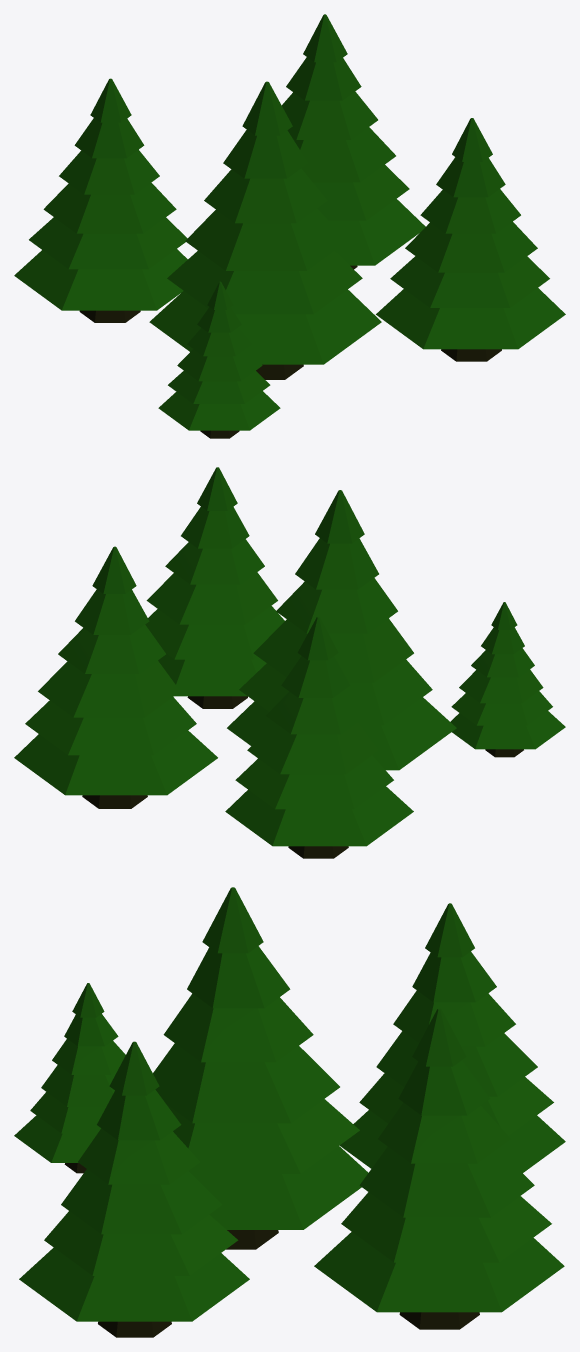
Rendered from forest.glb.
The picture shows the model from 3 angles, top to bottom: view 1: azimuth 30°, elevation 25°; view 2: azimuth 150°, elevation 25°; view 3: azimuth 270°, elevation 25°; orthographic projection. The views are drawn at different scales.
Visible parts, largest first — view 1: Cylinder.002; view 2: Cylinder.002; view 3: Cylinder.002.
Boxes of the visible parts, x1,y1,x2,y2 form: Cylinder.002: [14, 14, 565, 438]; Cylinder.002: [14, 467, 565, 858]; Cylinder.002: [14, 887, 565, 1337].
Size of the model in its own units: 15.41 by 10.79 by 15.64.
Materials: 1 (1 with a texture image).
